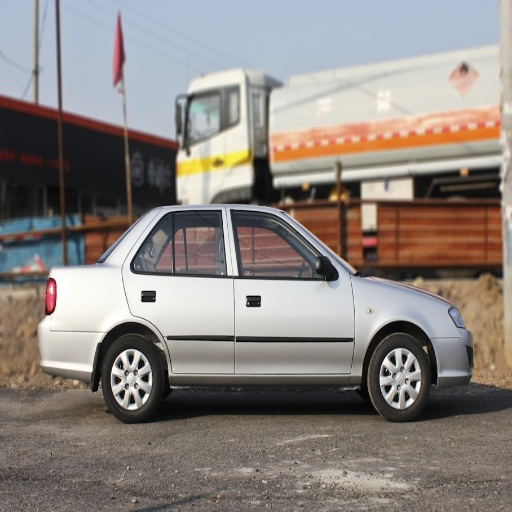back_right_door: (125, 207, 234, 375)
front_right_door: (229, 208, 355, 373)
